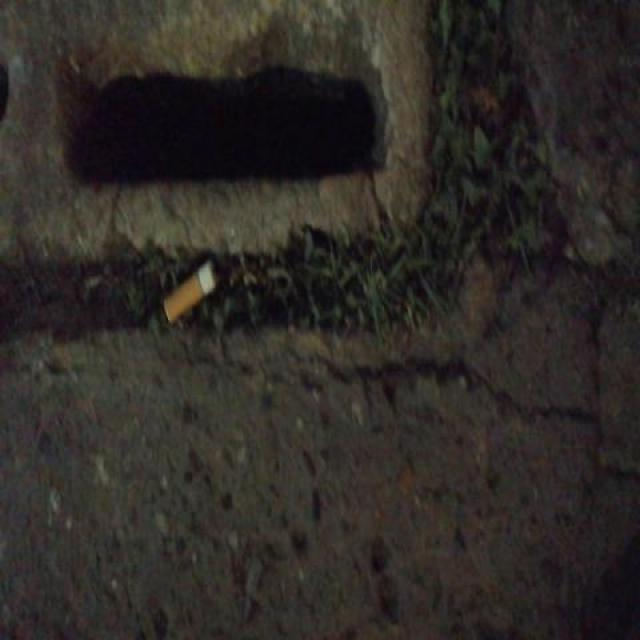non-organic waste: (158, 254, 223, 329)
